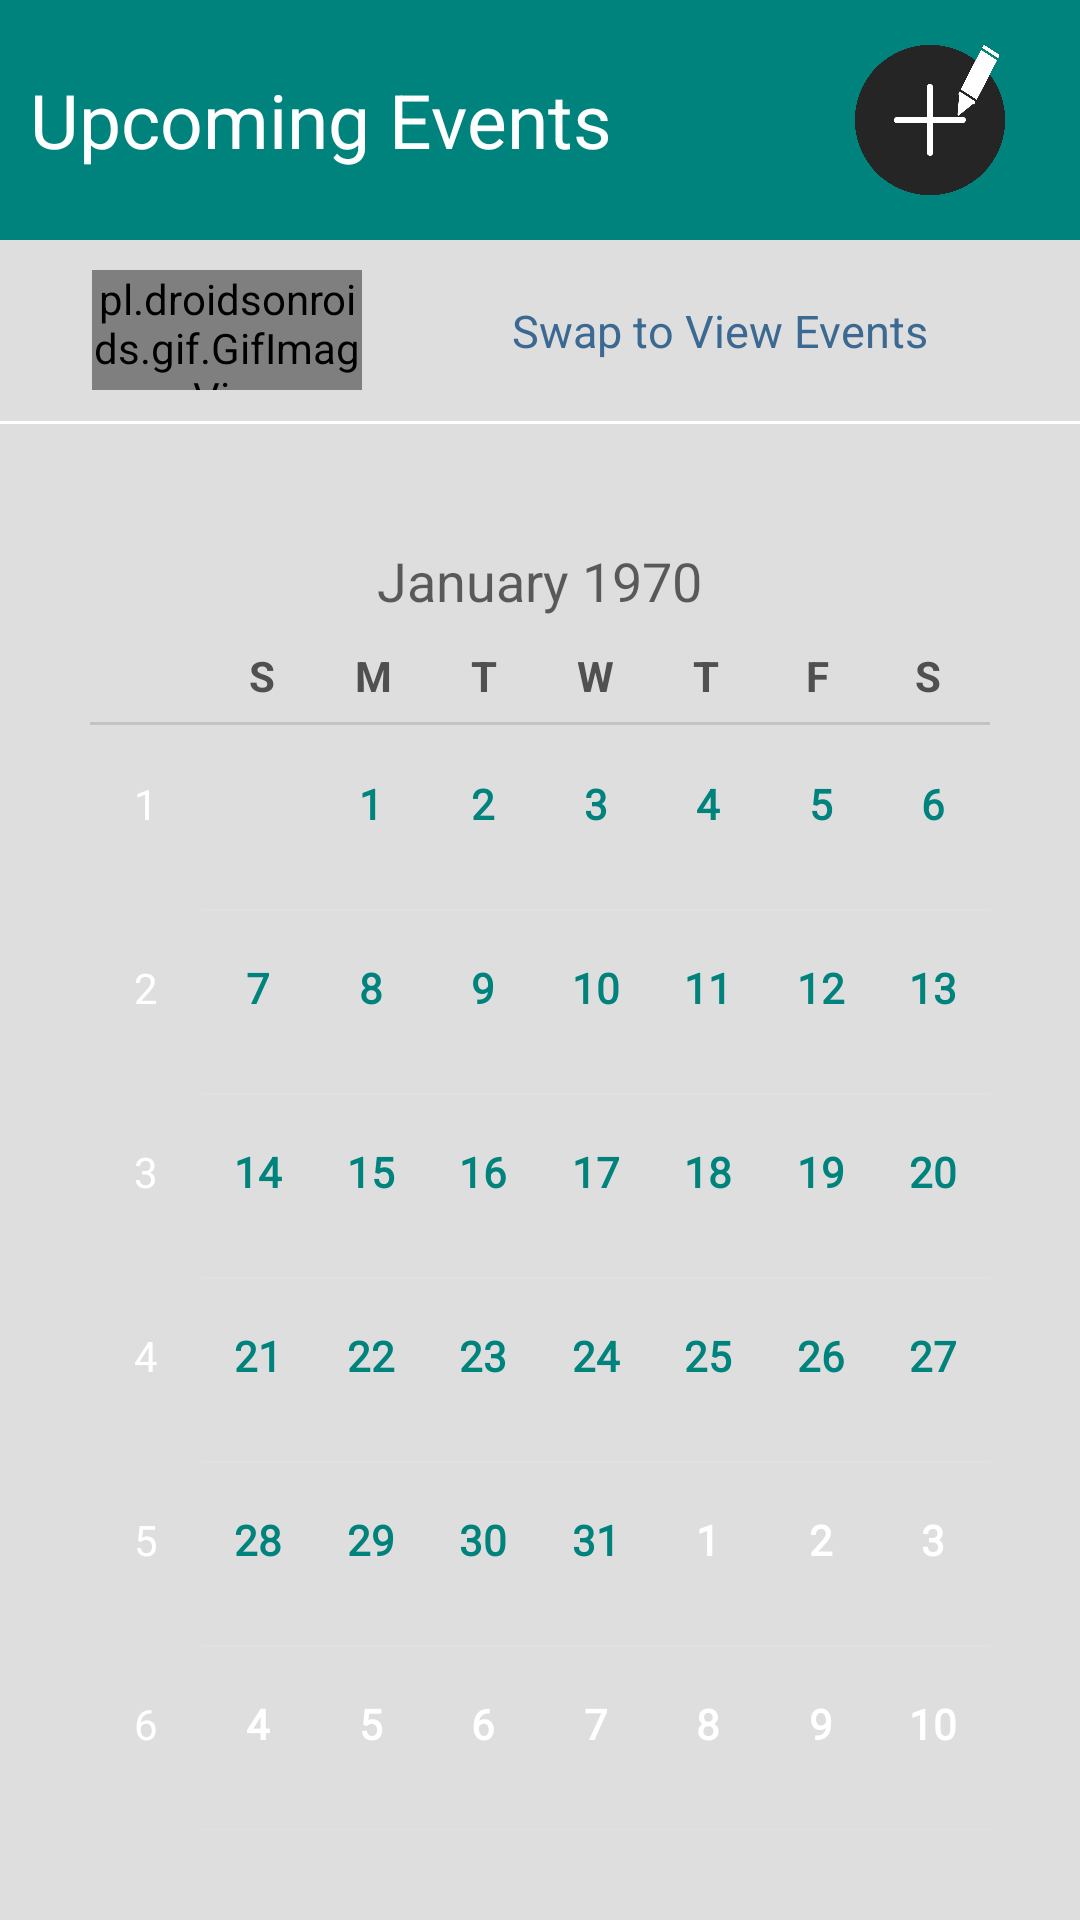

Named icons in this screenshot (1080*1920) and their bounding boxes, (x1, y1, x2, y2):
addicon: (855, 45, 1005, 195)
